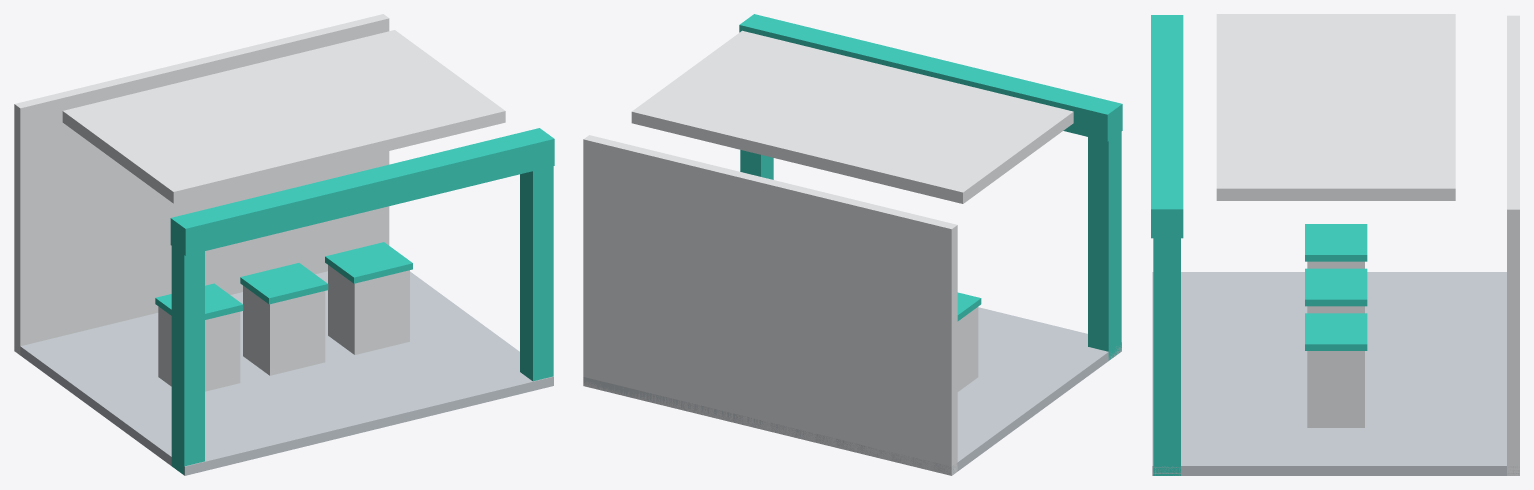
3 renders of one model, left to right at view 1: azimuth 30°, elevation 25°; view 2: azimuth 150°, elevation 25°; view 3: azimuth 270°, elevation 25°, orthographic. The views are drawn at different scales.
Parts seen in each view (by area): view 1: Exhibition Booth Concept; view 2: Exhibition Booth Concept; view 3: Exhibition Booth Concept.
Boxes of the visible parts, x1,y1,x2,y2 form: Exhibition Booth Concept: [14, 14, 554, 475]; Exhibition Booth Concept: [583, 14, 1122, 475]; Exhibition Booth Concept: [1151, 14, 1519, 475].
Size of the model in its own units: 5 by 3.34 by 4.02.
